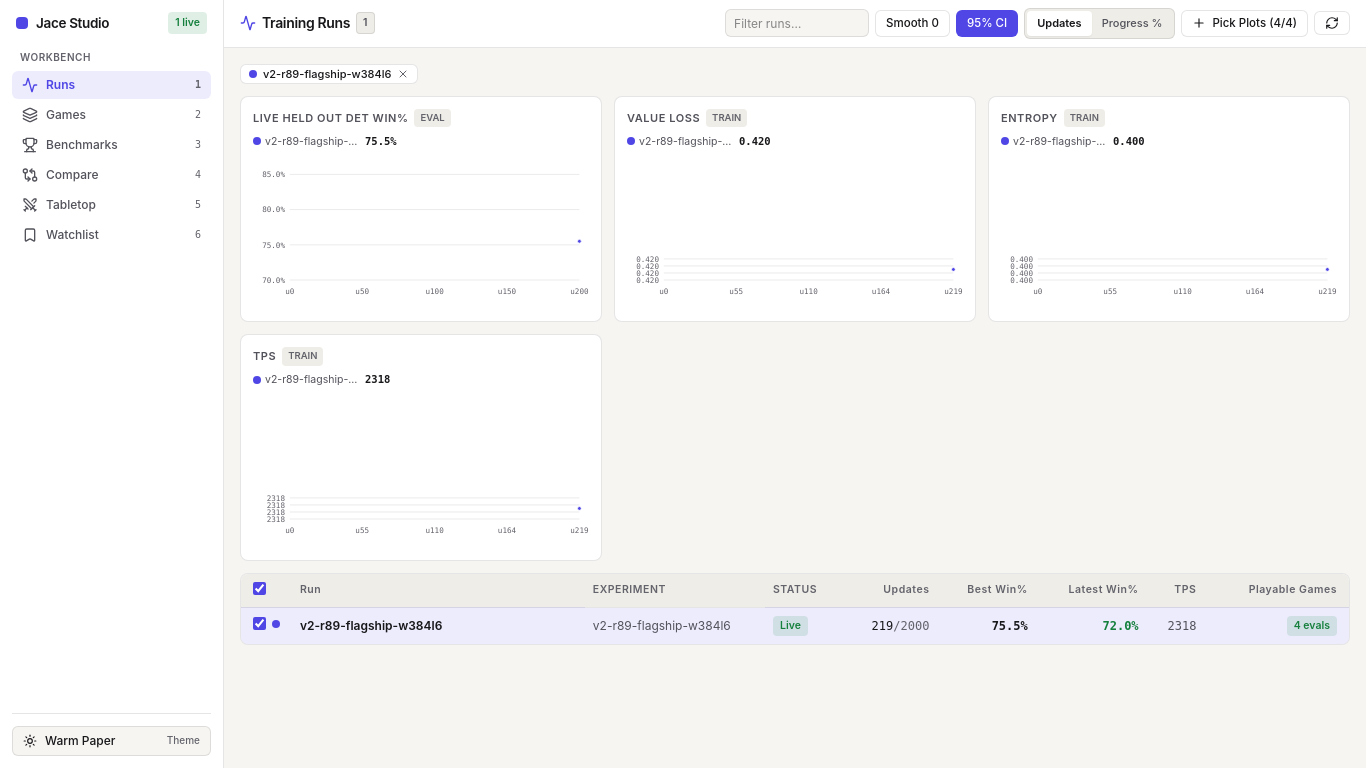
Jace Studio App › renders discovered runs and switches to Games Explorer
Expected: the 1st button "v2-r89-flagship-w384l6" is shown, 263,66 -> 392,81
Expected: the text "75.5%" is shown, 365,134 -> 397,149
Click the button "Games 2" at [112, 115], box 12,101 -> 211,129
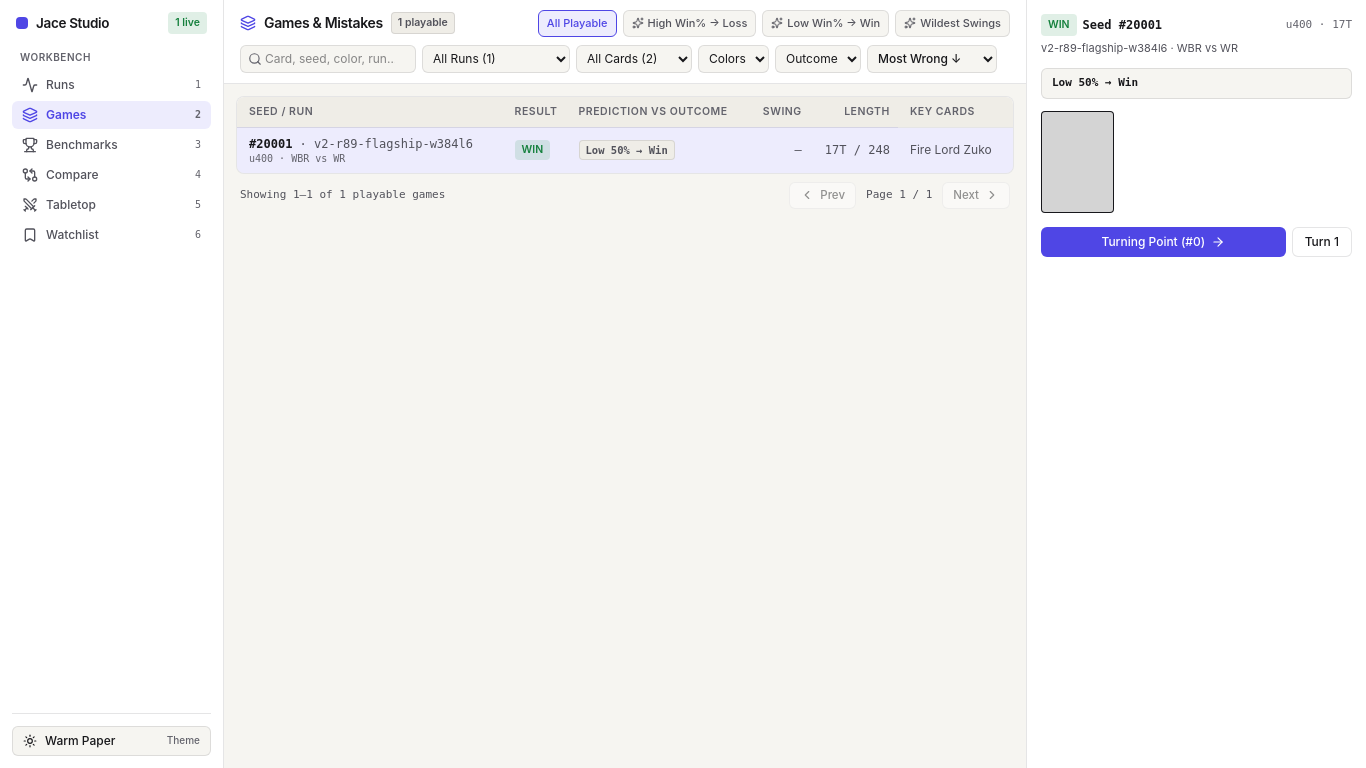
Now the text "Seed #20001" is shown, box 1083,17 -> 1162,33
